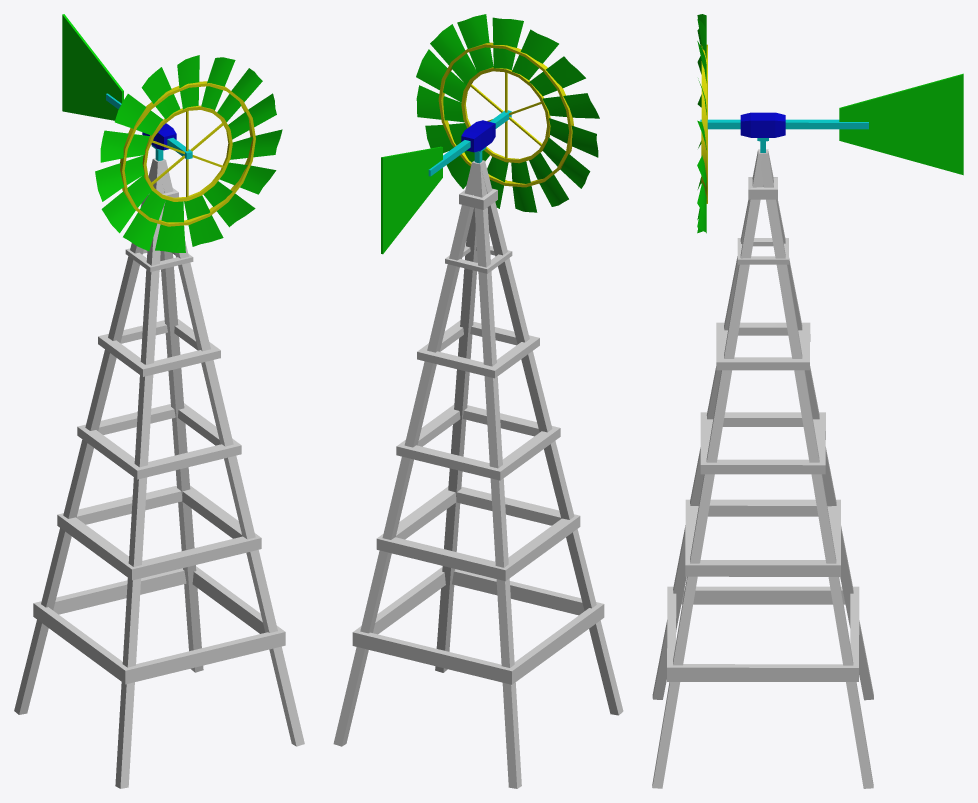
The model's file is windmill anim.fbx.
The picture shows the model from 3 angles, left to right: view 1: azimuth 30°, elevation 25°; view 2: azimuth 150°, elevation 25°; view 3: azimuth 270°, elevation 25°; orthographic projection. The views are drawn at different scales.
Visible parts, largest first — view 1: Windmill_Base, Windmill_Spin, Windmill_Fin; view 2: Windmill_Base, Windmill_Spin, Windmill_Fin; view 3: Windmill_Base, Windmill_Fin, Windmill_Spin.
Boxes of the visible parts, x1,y1,x2,y2 form: Windmill_Base: (14, 158, 304, 788); Windmill_Spin: (95, 55, 282, 252); Windmill_Fin: (62, 14, 192, 161); Windmill_Base: (333, 160, 623, 788); Windmill_Spin: (416, 14, 599, 212); Windmill_Fin: (381, 110, 511, 254); Windmill_Base: (652, 149, 873, 788); Windmill_Fin: (700, 73, 963, 175); Windmill_Spin: (697, 14, 707, 233).
Bounding box in the file's own units: 174 × 621 × 244.
